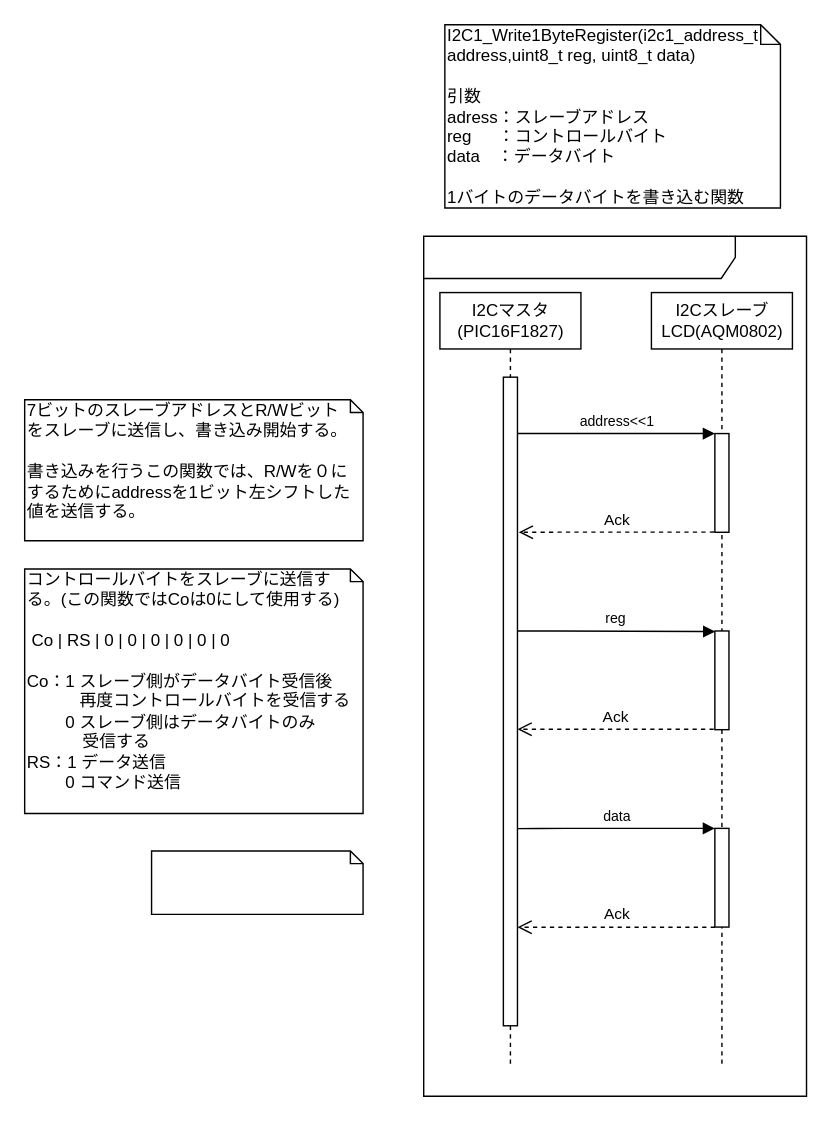
The diagram is 832 pixels wide and 1121 high, and some of its shapes have lost their labels. The centre of each missing label's shape, as x and y in pixels:
"I2Cx_Write1ByteRegistor(adress,reg,data)" belongs at [614,665].
"データバイトをスレーブ に送信する。" belongs at [256,882].
